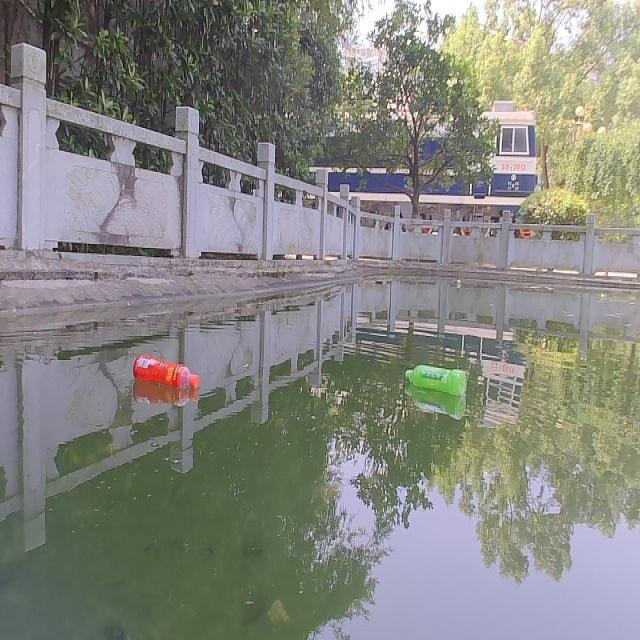bottle: (129, 349, 201, 394), (401, 361, 470, 396)
